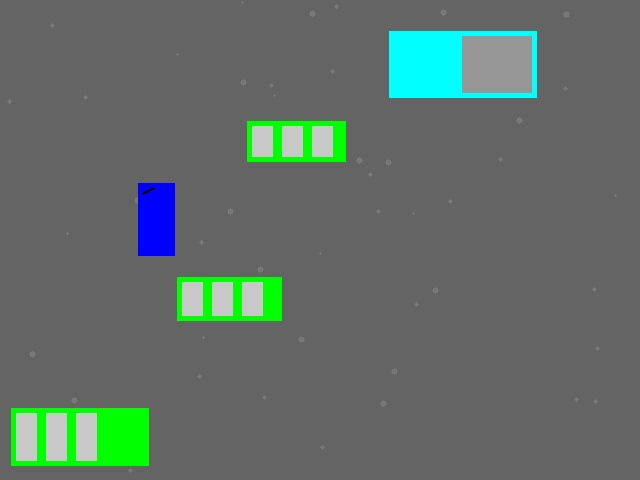bus: (11, 408, 148, 465), (177, 277, 281, 320), (247, 121, 345, 161)
motorcycle: (138, 183, 174, 255)
truck: (389, 31, 536, 97)
